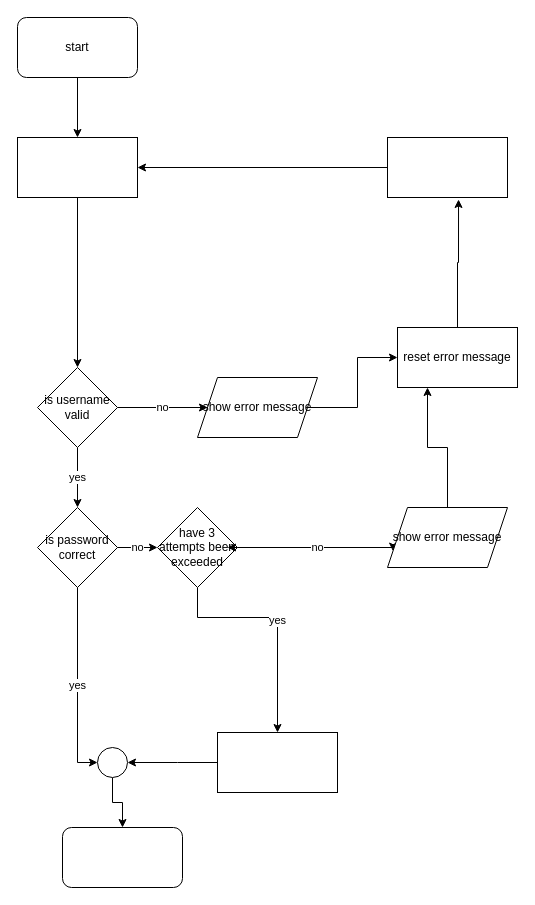
This 535x905 diagram has some shape labels left out. The centre of each missing label's shape, as x and y in pixels:
end: the point at 122,857
enter username and password: the point at 77,167
increment attempts: the point at 447,167
lock account: the point at 277,762
